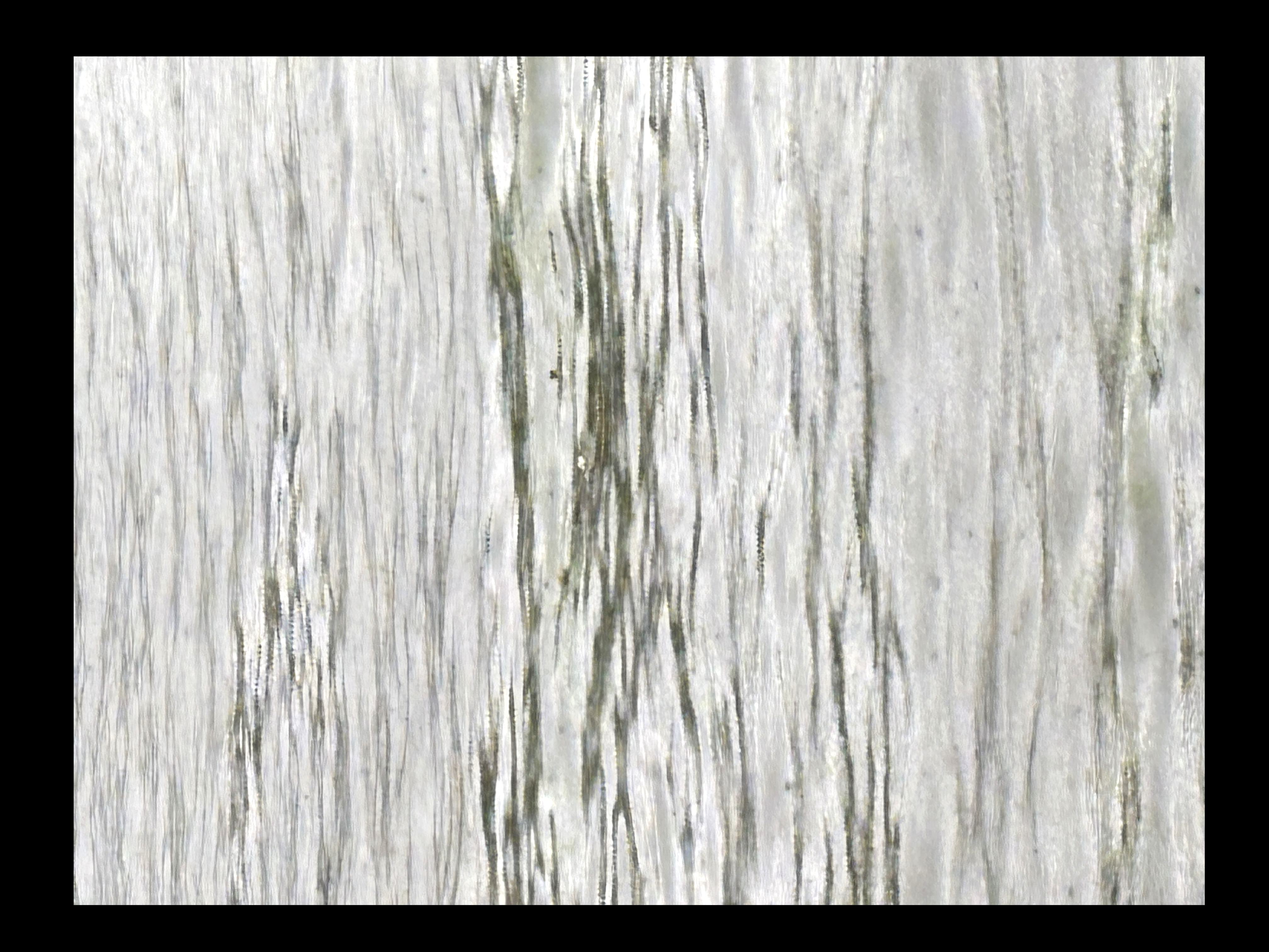Plastic wastes: (597, 422, 624, 470)
